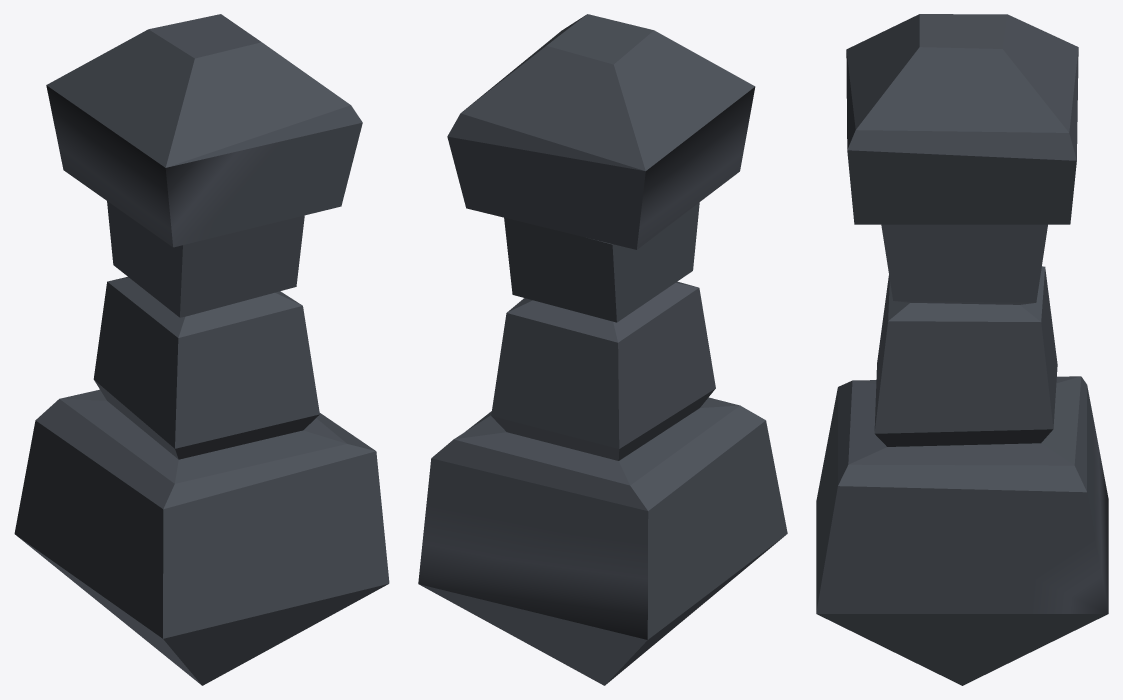
The model's file is Fence_Pillar.fbx.
3 views of the same model, side by side, from view 1: azimuth 30°, elevation 25°; view 2: azimuth 150°, elevation 25°; view 3: azimuth 270°, elevation 25° (orthographic).
Parts seen in each view (by area): view 1: Fence_Pillar; view 2: Fence_Pillar; view 3: Fence_Pillar.
Boxes of the visible parts, bbox=[...] form: Fence_Pillar: bbox=[14, 14, 389, 685]; Fence_Pillar: bbox=[418, 14, 787, 685]; Fence_Pillar: bbox=[816, 14, 1108, 685].
Size of the model in its own units: 0.1982 by 0.5341 by 0.2153.
